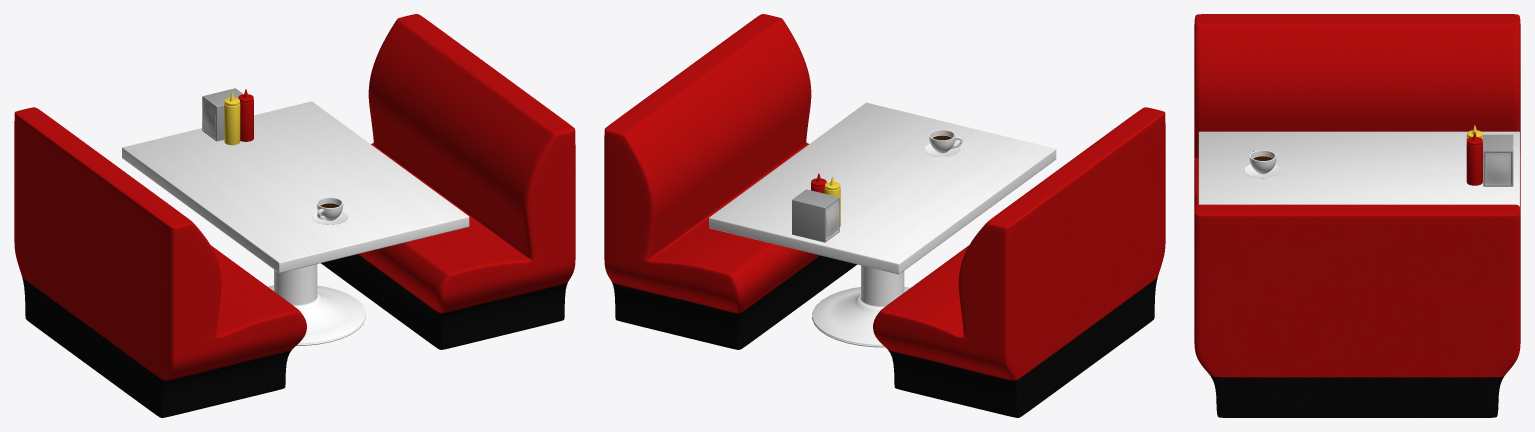
File: booth.glb
3 renders of one model, left to right at view 1: azimuth 30°, elevation 25°; view 2: azimuth 150°, elevation 25°; view 3: azimuth 270°, elevation 25°, orthographic. The views are drawn at different scales.
Parts seen in each view (by area): view 1: Cube.009, Cube.010, Cylinder.003, Cube.020, Cylinder.020; view 2: Cube.009, Cube.010, Cylinder.003, Cube.020, Cylinder.020; view 3: Cube.010, Cube.009, Cylinder.003, Cube.020, Cylinder.020.
Part boxes in pixels (x1=…): Cube.009: x1=14, y1=107, x2=306, y2=417; Cube.010: x1=321, y1=14, x2=575, y2=349; Cylinder.003: x1=122, y1=101, x2=469, y2=345; Cube.020: x1=202, y1=88, x2=253, y2=145; Cylinder.020: x1=312, y1=197, x2=348, y2=224; Cube.009: x1=873, y1=107, x2=1165, y2=417; Cube.010: x1=604, y1=14, x2=857, y2=349; Cylinder.003: x1=709, y1=102, x2=1056, y2=347; Cube.020: x1=792, y1=173, x2=840, y2=242; Cylinder.020: x1=924, y1=129, x2=962, y2=156; Cube.010: x1=1194, y1=204, x2=1520, y2=417; Cube.009: x1=1194, y1=14, x2=1520, y2=211; Cylinder.003: x1=1198, y1=131, x2=1519, y2=206; Cube.020: x1=1466, y1=125, x2=1513, y2=186; Cylinder.020: x1=1244, y1=150, x2=1281, y2=178.
Size of the model in its own units: 1.9 by 0.892 by 1.29.
Materials: 4 (4 with a texture image).
